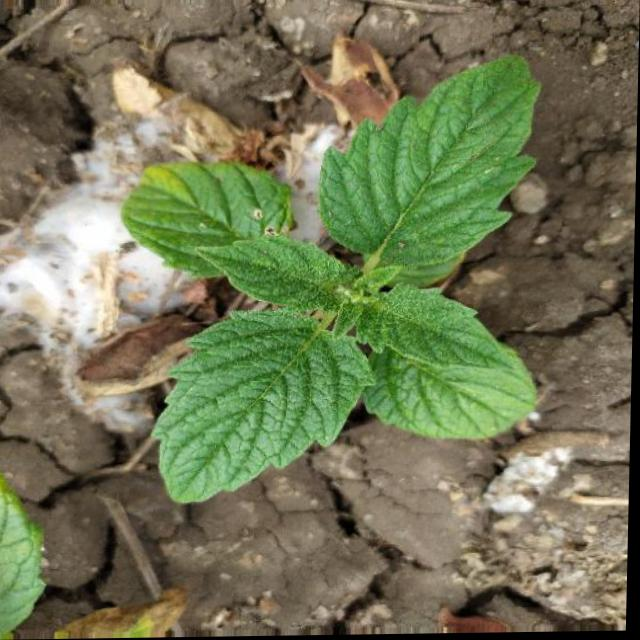crop: (107, 37, 572, 529)
